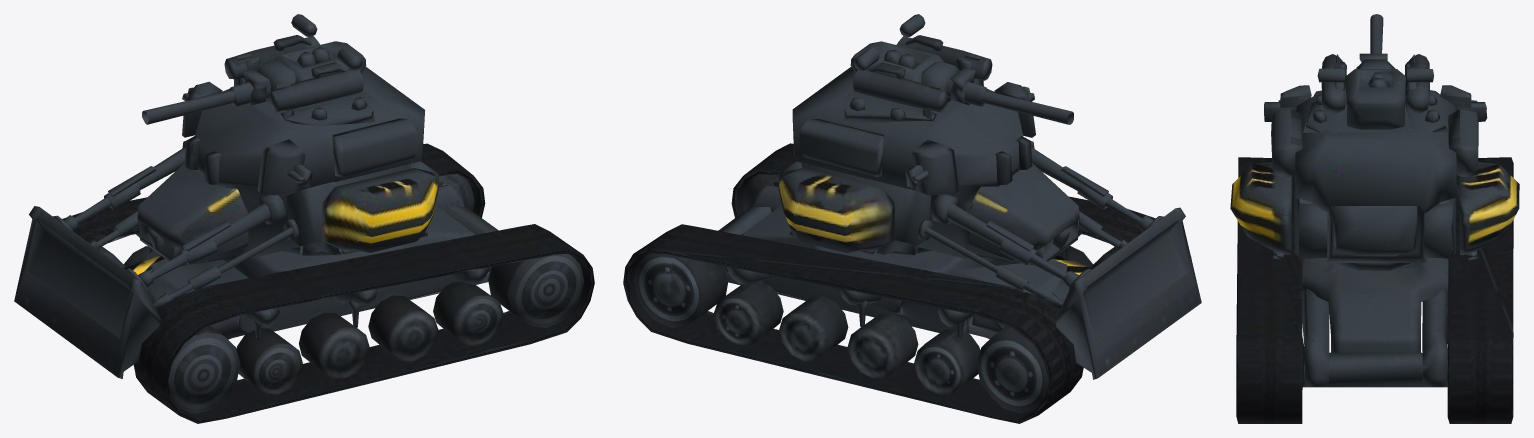
The model's file is boss_tank.glb.
The picture shows the model from 3 angles, left to right: view 1: azimuth 30°, elevation 25°; view 2: azimuth 150°, elevation 25°; view 3: azimuth 270°, elevation 25°; orthographic projection. The views are drawn at different scales.
Bounding box in the file's own units: 0.9497 × 0.5747 × 0.5391.
Materials: 1 (1 with a texture image).
